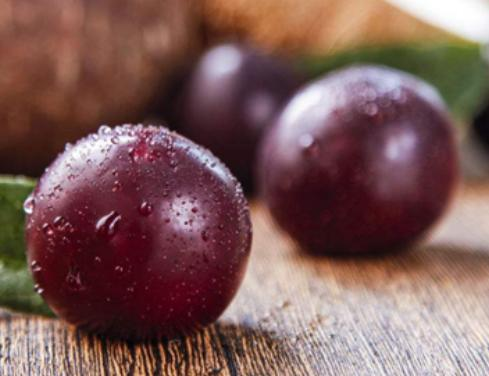plum_A: (27, 124, 252, 340), (260, 63, 459, 260)
